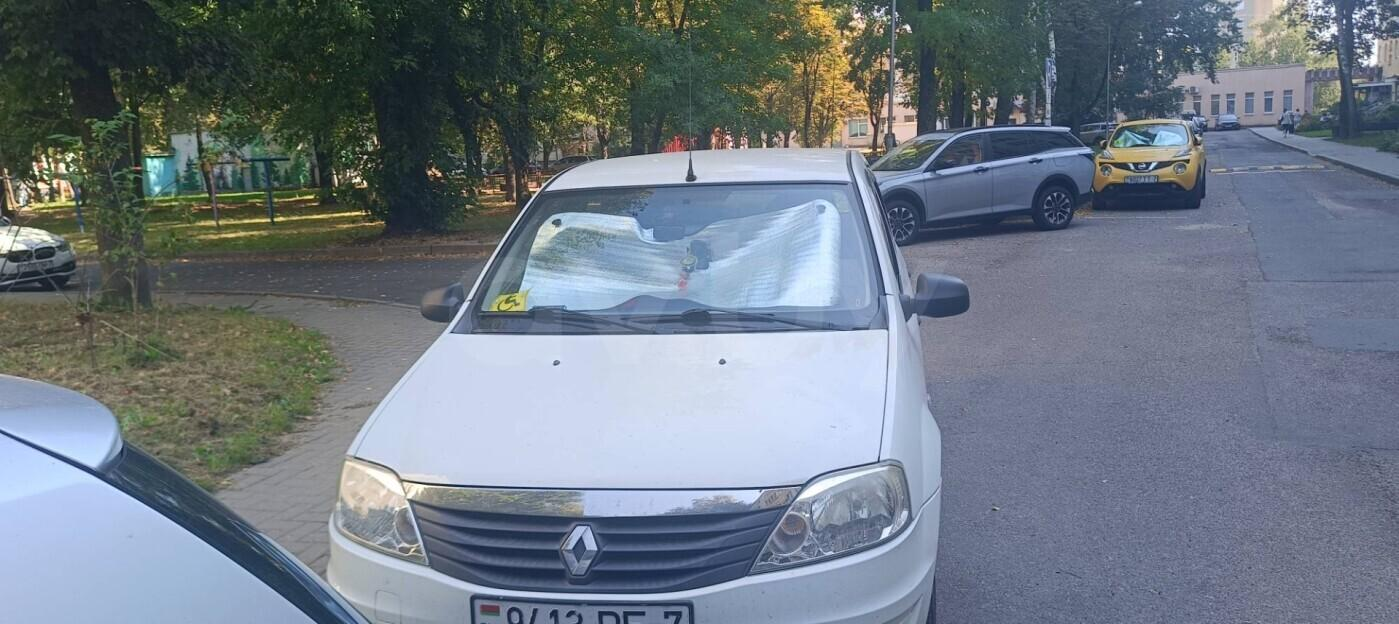Logan_2008-2015: (320, 139, 938, 624)
